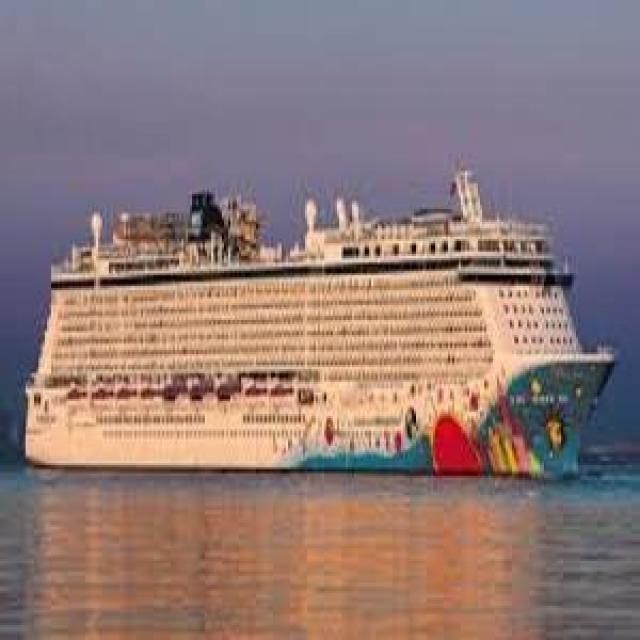passenger ship: (19, 171, 606, 473)
